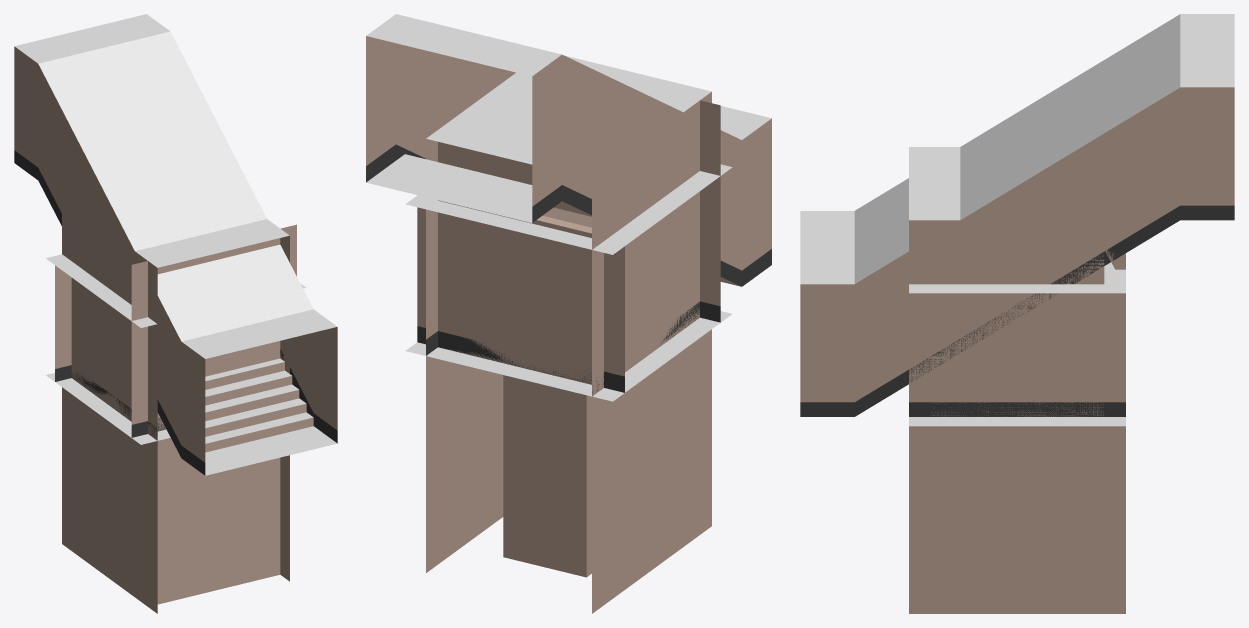
Rendered from labblock.dae.
3 renders of one model, left to right at view 1: azimuth 30°, elevation 25°; view 2: azimuth 150°, elevation 25°; view 3: azimuth 270°, elevation 25°, orthographic. The views are drawn at different scales.
Parts seen in each view (by area): view 1: laboratory_path_block_ascend, laboratory_path_block_pitside_start, laboratory_room_mid_side, laboratory_room_top_side, laboratory_room_bridge_straight, laboratory_room_top_access, laboratory_path_block_pitside_center, laboratory_path_block_junction, laboratory_room_mid_access, laboratory_room_mid_corner, laboratory_room_base_access, laboratory_room_base_corner (+4 smaller); view 2: laboratory_path_block_ascend, laboratory_path_block_pitside_start, laboratory_path_block_vertical_mid, laboratory_path_block_pitside_island, laboratory_room_mid_side, laboratory_room_top_side, laboratory_path_block_vertical_base, laboratory_room_bridge_straight, laboratory_room_top_access, laboratory_path_block_junction, laboratory_room_base_access, laboratory_room_top_center (+7 smaller); view 3: laboratory_path_block_ascend, laboratory_path_block_pitside_start, laboratory_path_block_vertical_mid, laboratory_path_block_pitside_center, laboratory_path_block_vertical_base, laboratory_room_bridge_straight, laboratory_room_top_access, laboratory_room_base_center, laboratory_room_top_center, laboratory_room_base_side, laboratory_room_base_access, laboratory_room_top_corner (+1 smaller).
Part boxes in pixels (x1=…): laboratory_path_block_ascend: x1=14, y1=14, x2=337, y2=475; laboratory_path_block_pitside_start: x1=62, y1=387, x2=280, y2=606; laboratory_room_mid_side: x1=62, y1=199, x2=157, y2=440; laboratory_room_top_side: x1=71, y1=284, x2=157, y2=438; laboratory_room_bridge_straight: x1=135, y1=219, x2=289, y2=267; laboratory_room_top_access: x1=46, y1=254, x2=289, y2=437; laboratory_path_block_pitside_center: x1=137, y1=441, x2=289, y2=613; laboratory_path_block_junction: x1=55, y1=265, x2=147, y2=423; laboratory_room_mid_access: x1=131, y1=224, x2=296, y2=348; laboratory_room_mid_corner: x1=62, y1=198, x2=296, y2=428; laboratory_room_base_access: x1=46, y1=261, x2=289, y2=437; laboratory_room_base_corner: x1=157, y1=226, x2=296, y2=431; laboratory_path_block_ascend: x1=366, y1=14, x2=771, y2=286; laboratory_path_block_pitside_start: x1=426, y1=202, x2=699, y2=613; laboratory_path_block_vertical_mid: x1=438, y1=141, x2=591, y2=384; laboratory_path_block_pitside_island: x1=503, y1=375, x2=591, y2=577; laboratory_room_mid_side: x1=592, y1=92, x2=711, y2=395; laboratory_room_top_side: x1=510, y1=192, x2=699, y2=394; laboratory_path_block_vertical_base: x1=438, y1=142, x2=591, y2=384; laboratory_room_bridge_straight: x1=426, y1=55, x2=711, y2=233; laboratory_room_top_access: x1=405, y1=171, x2=720, y2=322; laboratory_path_block_junction: x1=417, y1=171, x2=720, y2=392; laboratory_room_base_access: x1=405, y1=101, x2=720, y2=401; laboratory_room_top_center: x1=407, y1=164, x2=732, y2=254; laboratory_path_block_ascend: x1=800, y1=14, x2=1234, y2=416; laboratory_path_block_pitside_start: x1=930, y1=293, x2=1125, y2=613; laboratory_path_block_vertical_mid: x1=930, y1=220, x2=1104, y2=416; laboratory_path_block_pitside_center: x1=909, y1=293, x2=1017, y2=613; laboratory_path_block_vertical_base: x1=930, y1=220, x2=1104, y2=416; laboratory_room_bridge_straight: x1=909, y1=147, x2=1125, y2=269; laboratory_room_top_access: x1=909, y1=262, x2=1125, y2=416; laboratory_room_base_center: x1=909, y1=417, x2=1125, y2=426; laboratory_room_top_center: x1=909, y1=262, x2=1125, y2=293; laboratory_room_base_side: x1=909, y1=417, x2=1125, y2=426; laboratory_room_base_access: x1=909, y1=351, x2=1125, y2=426; laboratory_room_top_corner: x1=931, y1=263, x2=1125, y2=293.
Size of the model in its own units: 4 by 8 by 10.7.
